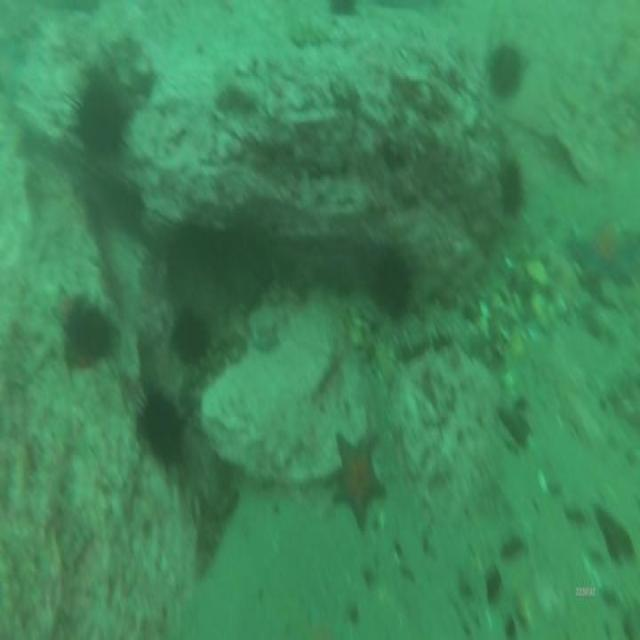echinus: (63, 68, 133, 171), (133, 384, 190, 474), (61, 295, 123, 370), (366, 242, 416, 326), (166, 305, 216, 367), (482, 40, 528, 104), (494, 150, 527, 221), (327, 0, 360, 19)
holothurian: (191, 455, 239, 591), (187, 326, 246, 394)
starfish: (330, 427, 389, 539), (566, 221, 640, 294), (49, 278, 78, 341), (250, 319, 284, 357)
